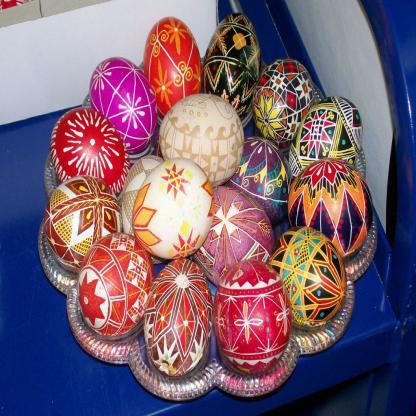Ball: (44, 11, 372, 378)
